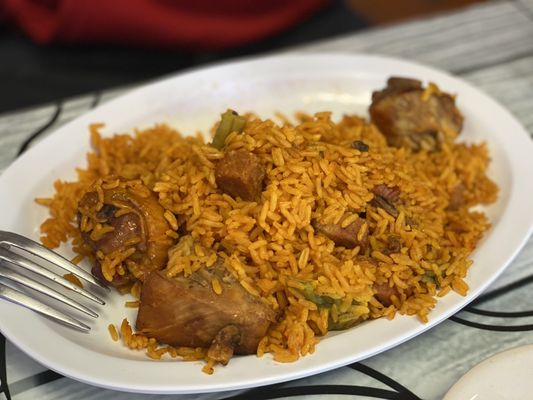burger: (0, 230, 122, 335), (0, 328, 11, 400)
sushi: (13, 54, 533, 395)
